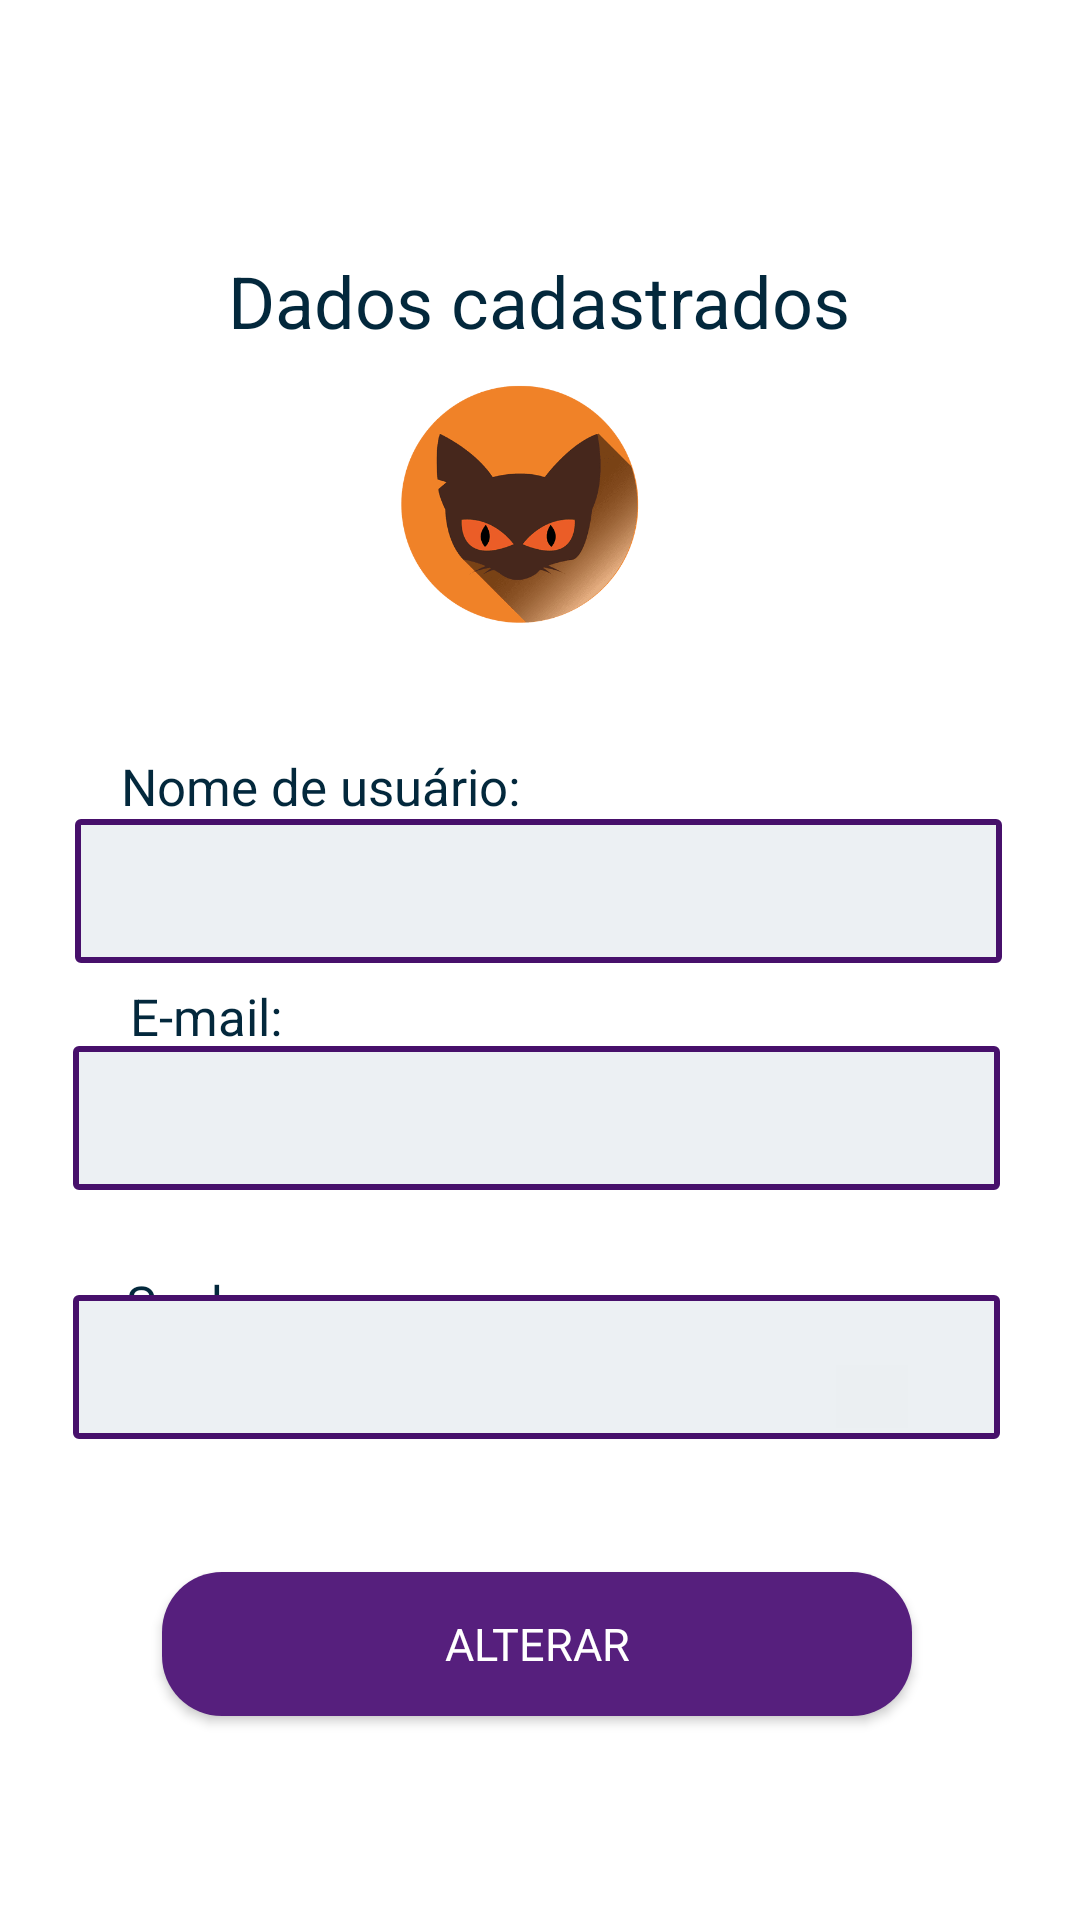

Where icons sit on this 1080 x 1920 app screen, as (x1, y1, x2, y2):
foto de perfil: (401, 386, 638, 623)
